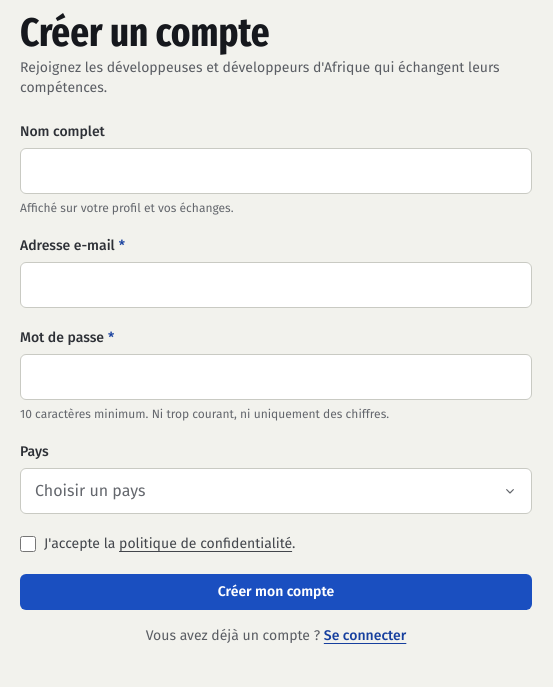
Test: page d'inscription › exige le consentement à la politique de confidentialité
The image size is (553, 687).
Type "ada@example.org" into the field labelled "Adresse e-mail*" at (276,285), box [20,262,532,308]
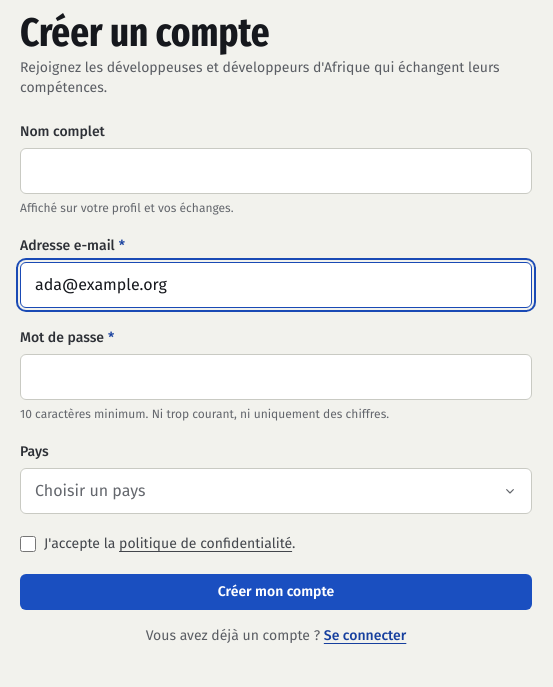
Type "mot-de-passe-solide-2026" into the password field labelled "Mot de passe*" at (276,377), box [20,354,532,400]
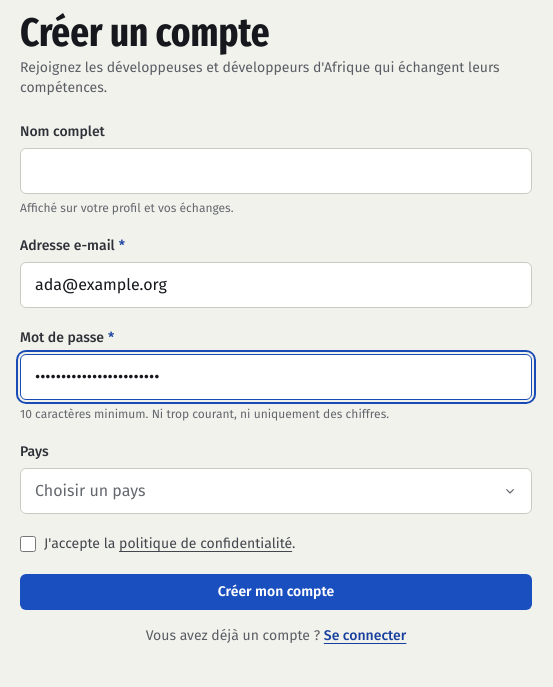
Click the button "Créer mon compte" at (276,592), box [20,574,532,610]
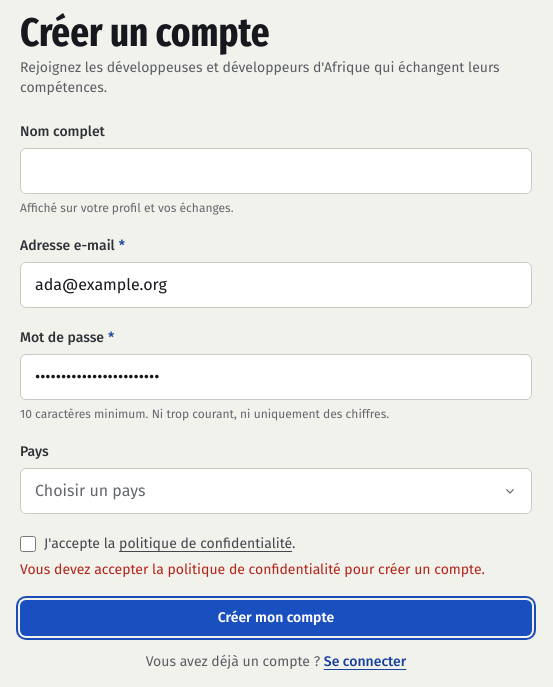
Result: the text "Vous devez accepter la politique de confidentialité pour créer un compte." is shown at [20,560,532,580]
